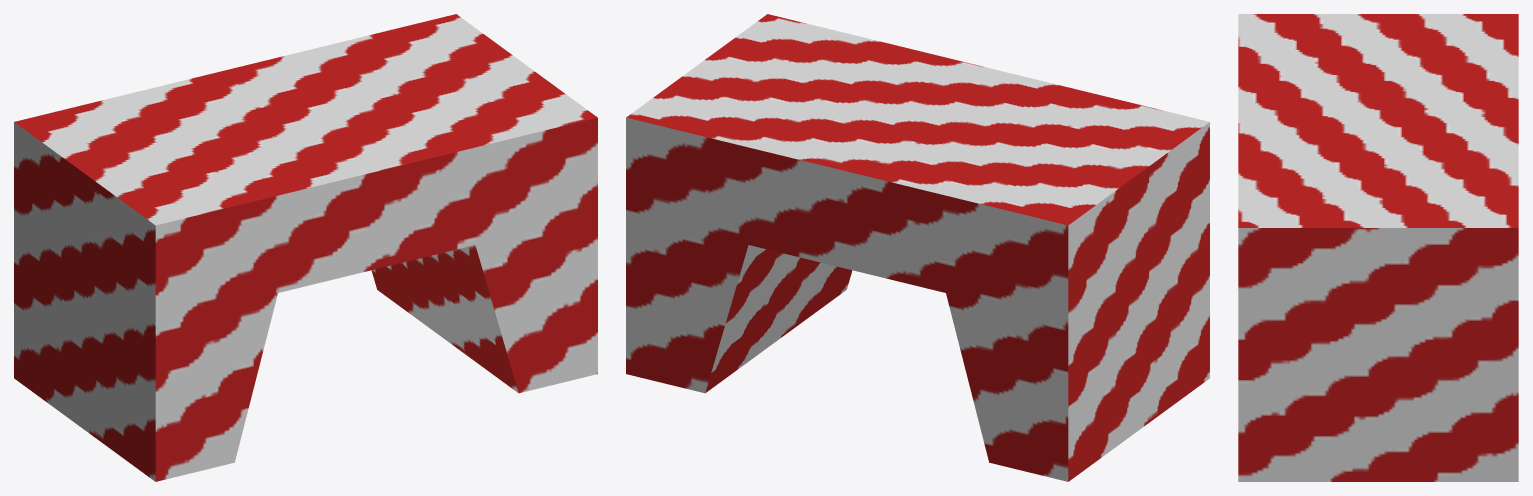
The model's file is KidsBoxF.FBX.
The picture shows the model from 3 angles, left to right: view 1: azimuth 30°, elevation 25°; view 2: azimuth 150°, elevation 25°; view 3: azimuth 270°, elevation 25°; orthographic projection.
Visible parts, largest first — view 1: KidsBoxF; view 2: KidsBoxF; view 3: KidsBoxF.
Boxes of the visible parts, x1,y1,x2,y2 form: KidsBoxF: (14,14,597,481); KidsBoxF: (626,14,1209,481); KidsBoxF: (1238,14,1518,481).
Bounding box in the file's own units: 18.04 × 10 × 10.
